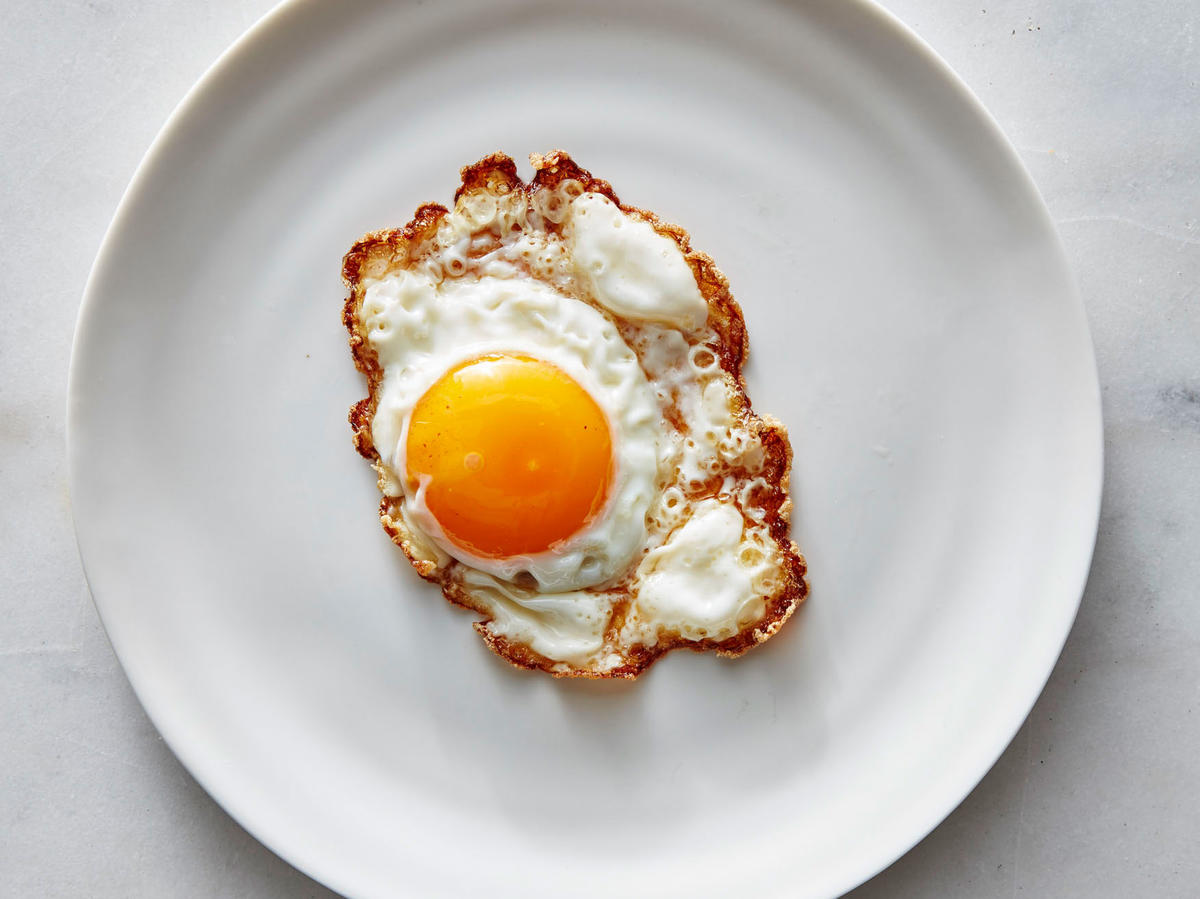fried egg: (378, 197, 751, 682)
